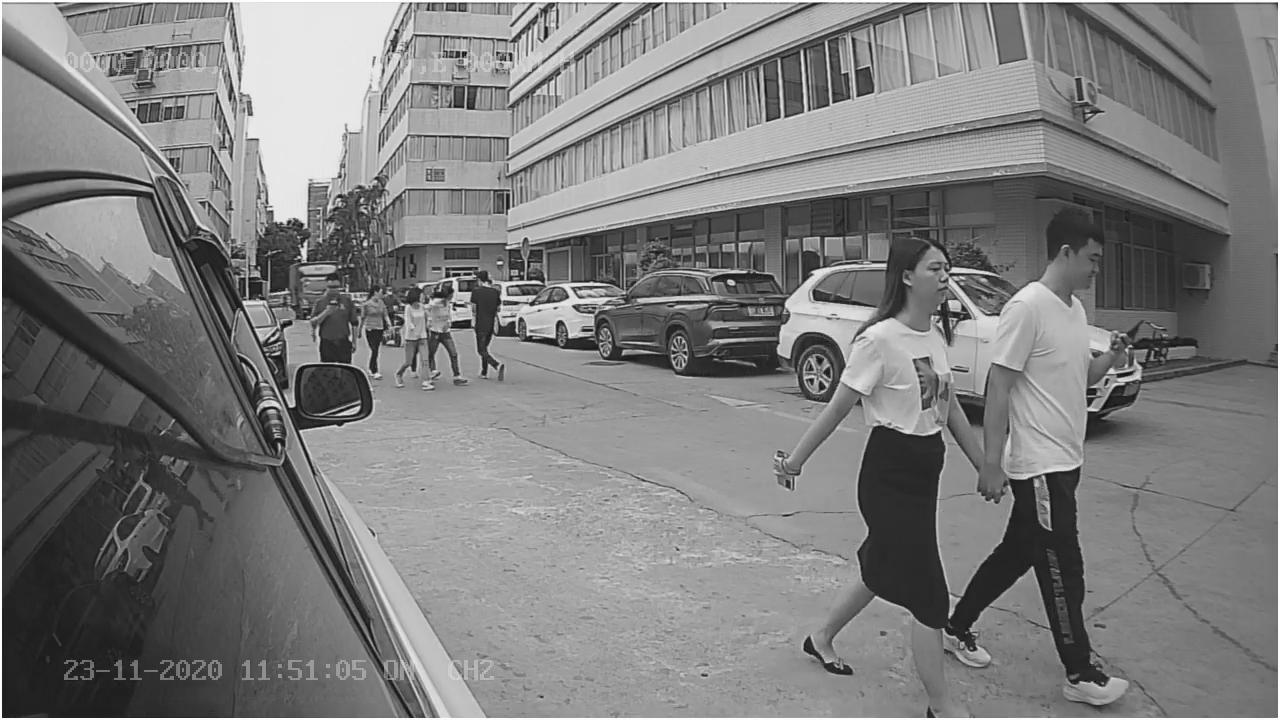person: (774, 207, 1001, 719)
